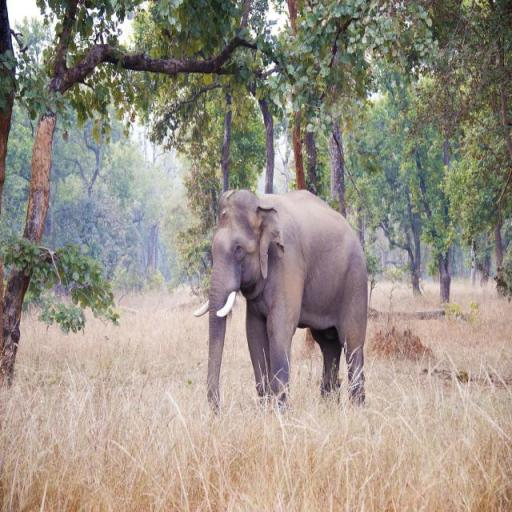Elephant: (193, 187, 369, 415)
